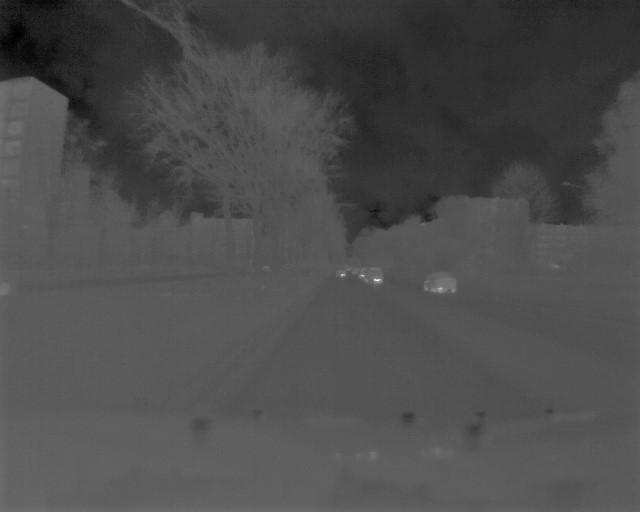car: (421, 270, 460, 295), (363, 265, 387, 284), (334, 267, 348, 278)
